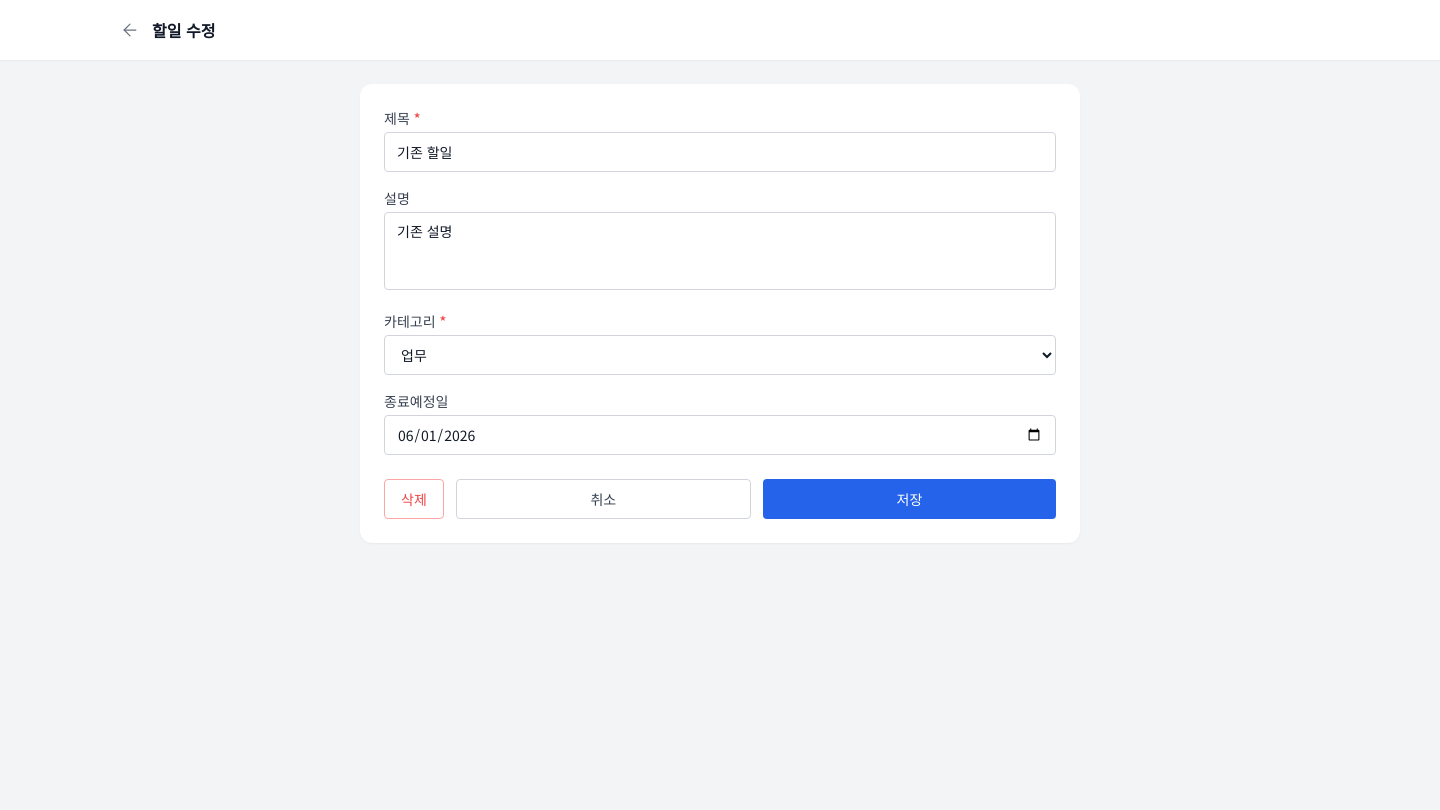
Test: TodoEditPage › 제목 미입력 시 에러 메시지
The width and height of the screenshot is (1440, 810).
Clear the field with placeholder "할일 제목을 입력하세요" at (720, 152), box top-left (384, 132), bottom-right (1056, 172)
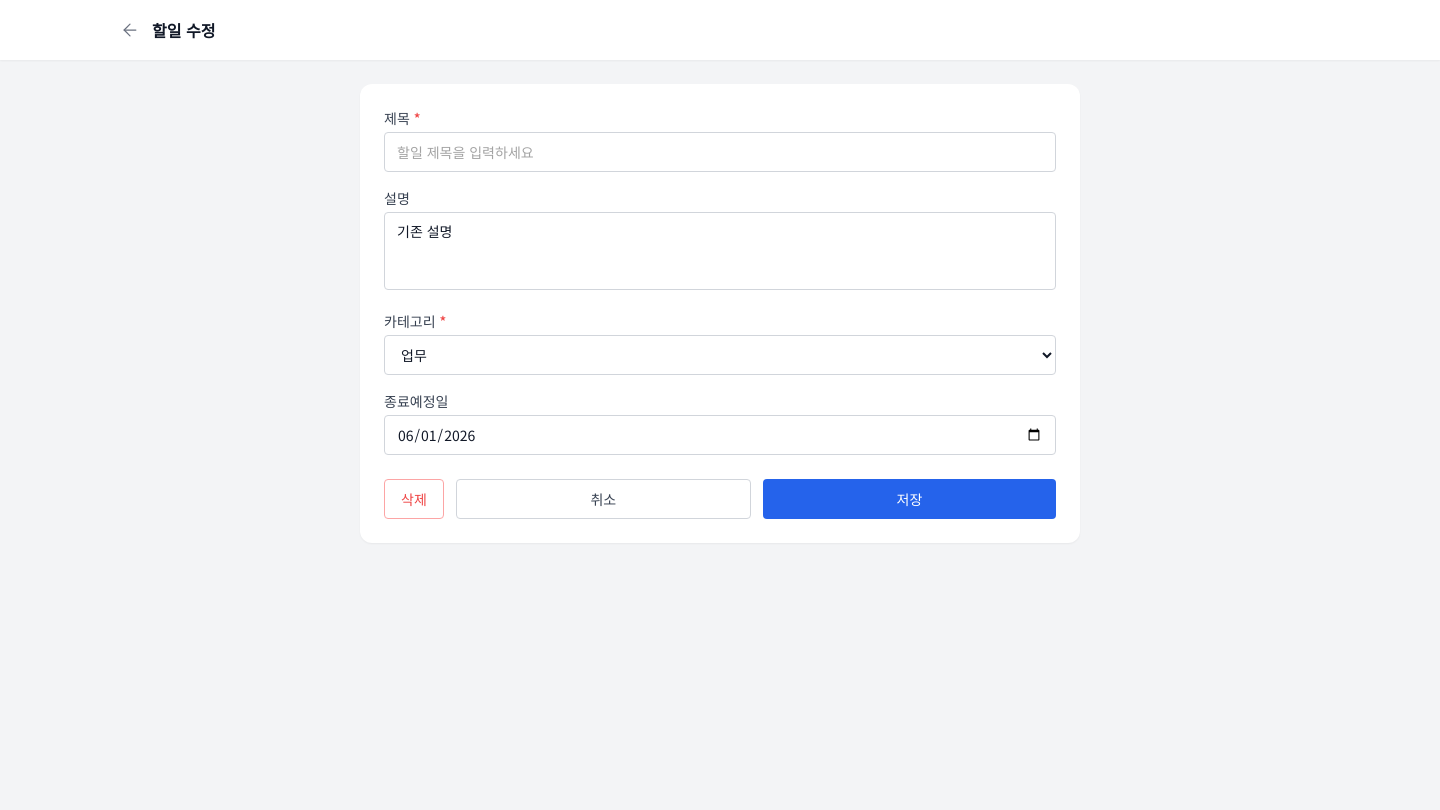
Click the button "저장".
click(909, 499)  # box top-left (763, 479), bottom-right (1056, 519)
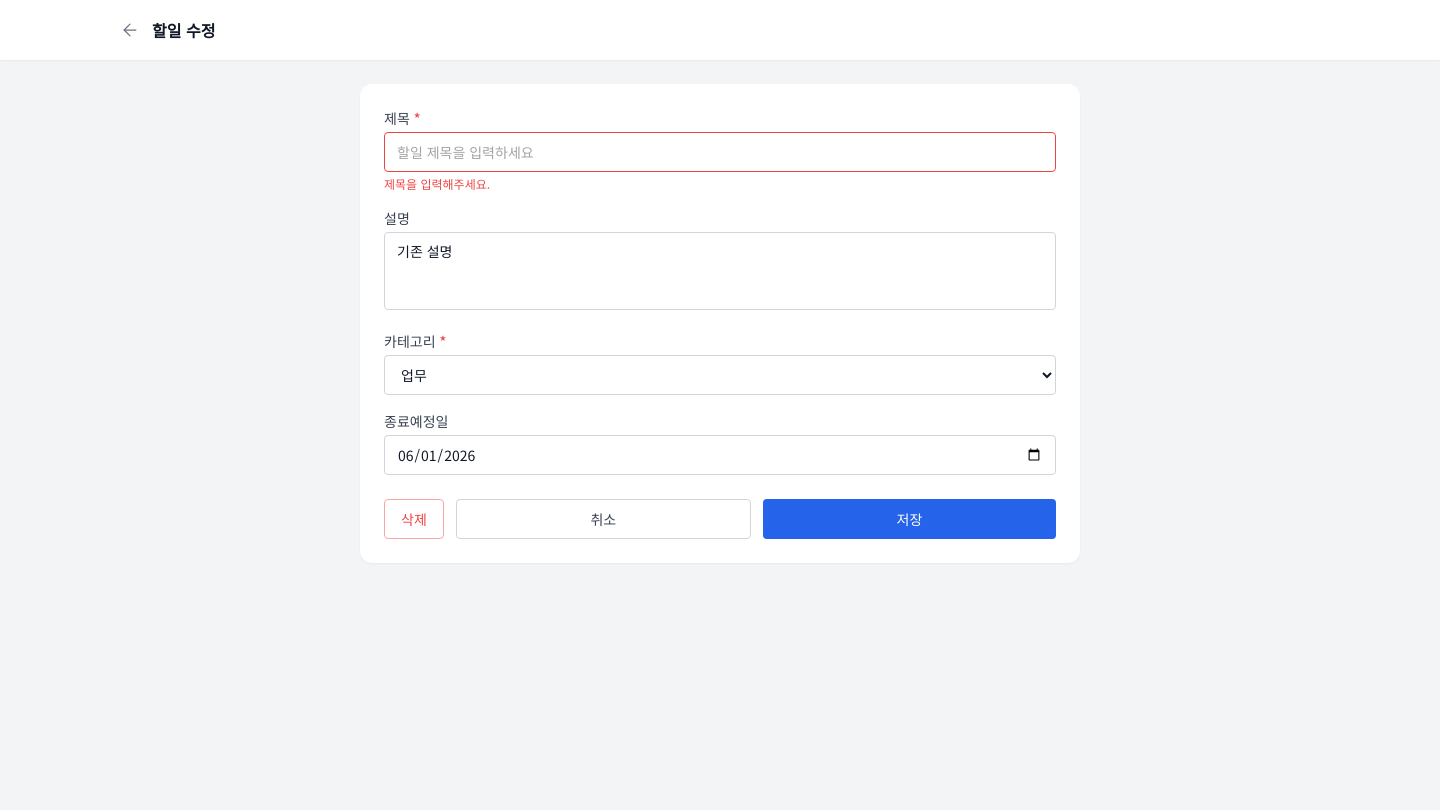
expect the text "제목을 입력해주세요." is shown: met, box top-left (384, 175), bottom-right (490, 192)
